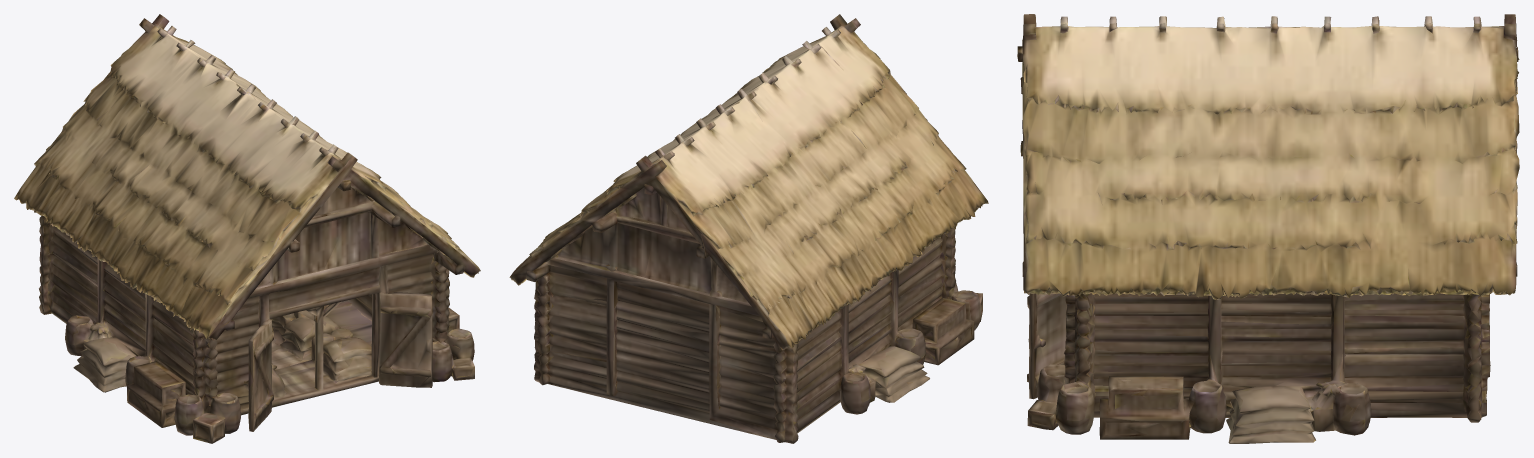
The model's file is storehouse.glb.
3 renders of one model, left to right at view 1: azimuth 30°, elevation 25°; view 2: azimuth 150°, elevation 25°; view 3: azimuth 270°, elevation 25°, orthographic. The views are drawn at different scales.
Parts seen in each view (by area): view 1: Mesh_0; view 2: Mesh_0; view 3: Mesh_0.
Boxes of the visible parts, box(x1,y1,x2,y2) form: Mesh_0: box(14, 14, 480, 443); Mesh_0: box(509, 14, 988, 443); Mesh_0: box(1017, 14, 1519, 443).
Size of the model in its own units: 1.79 by 1.36 by 1.9.
1 material, 1 textured.
